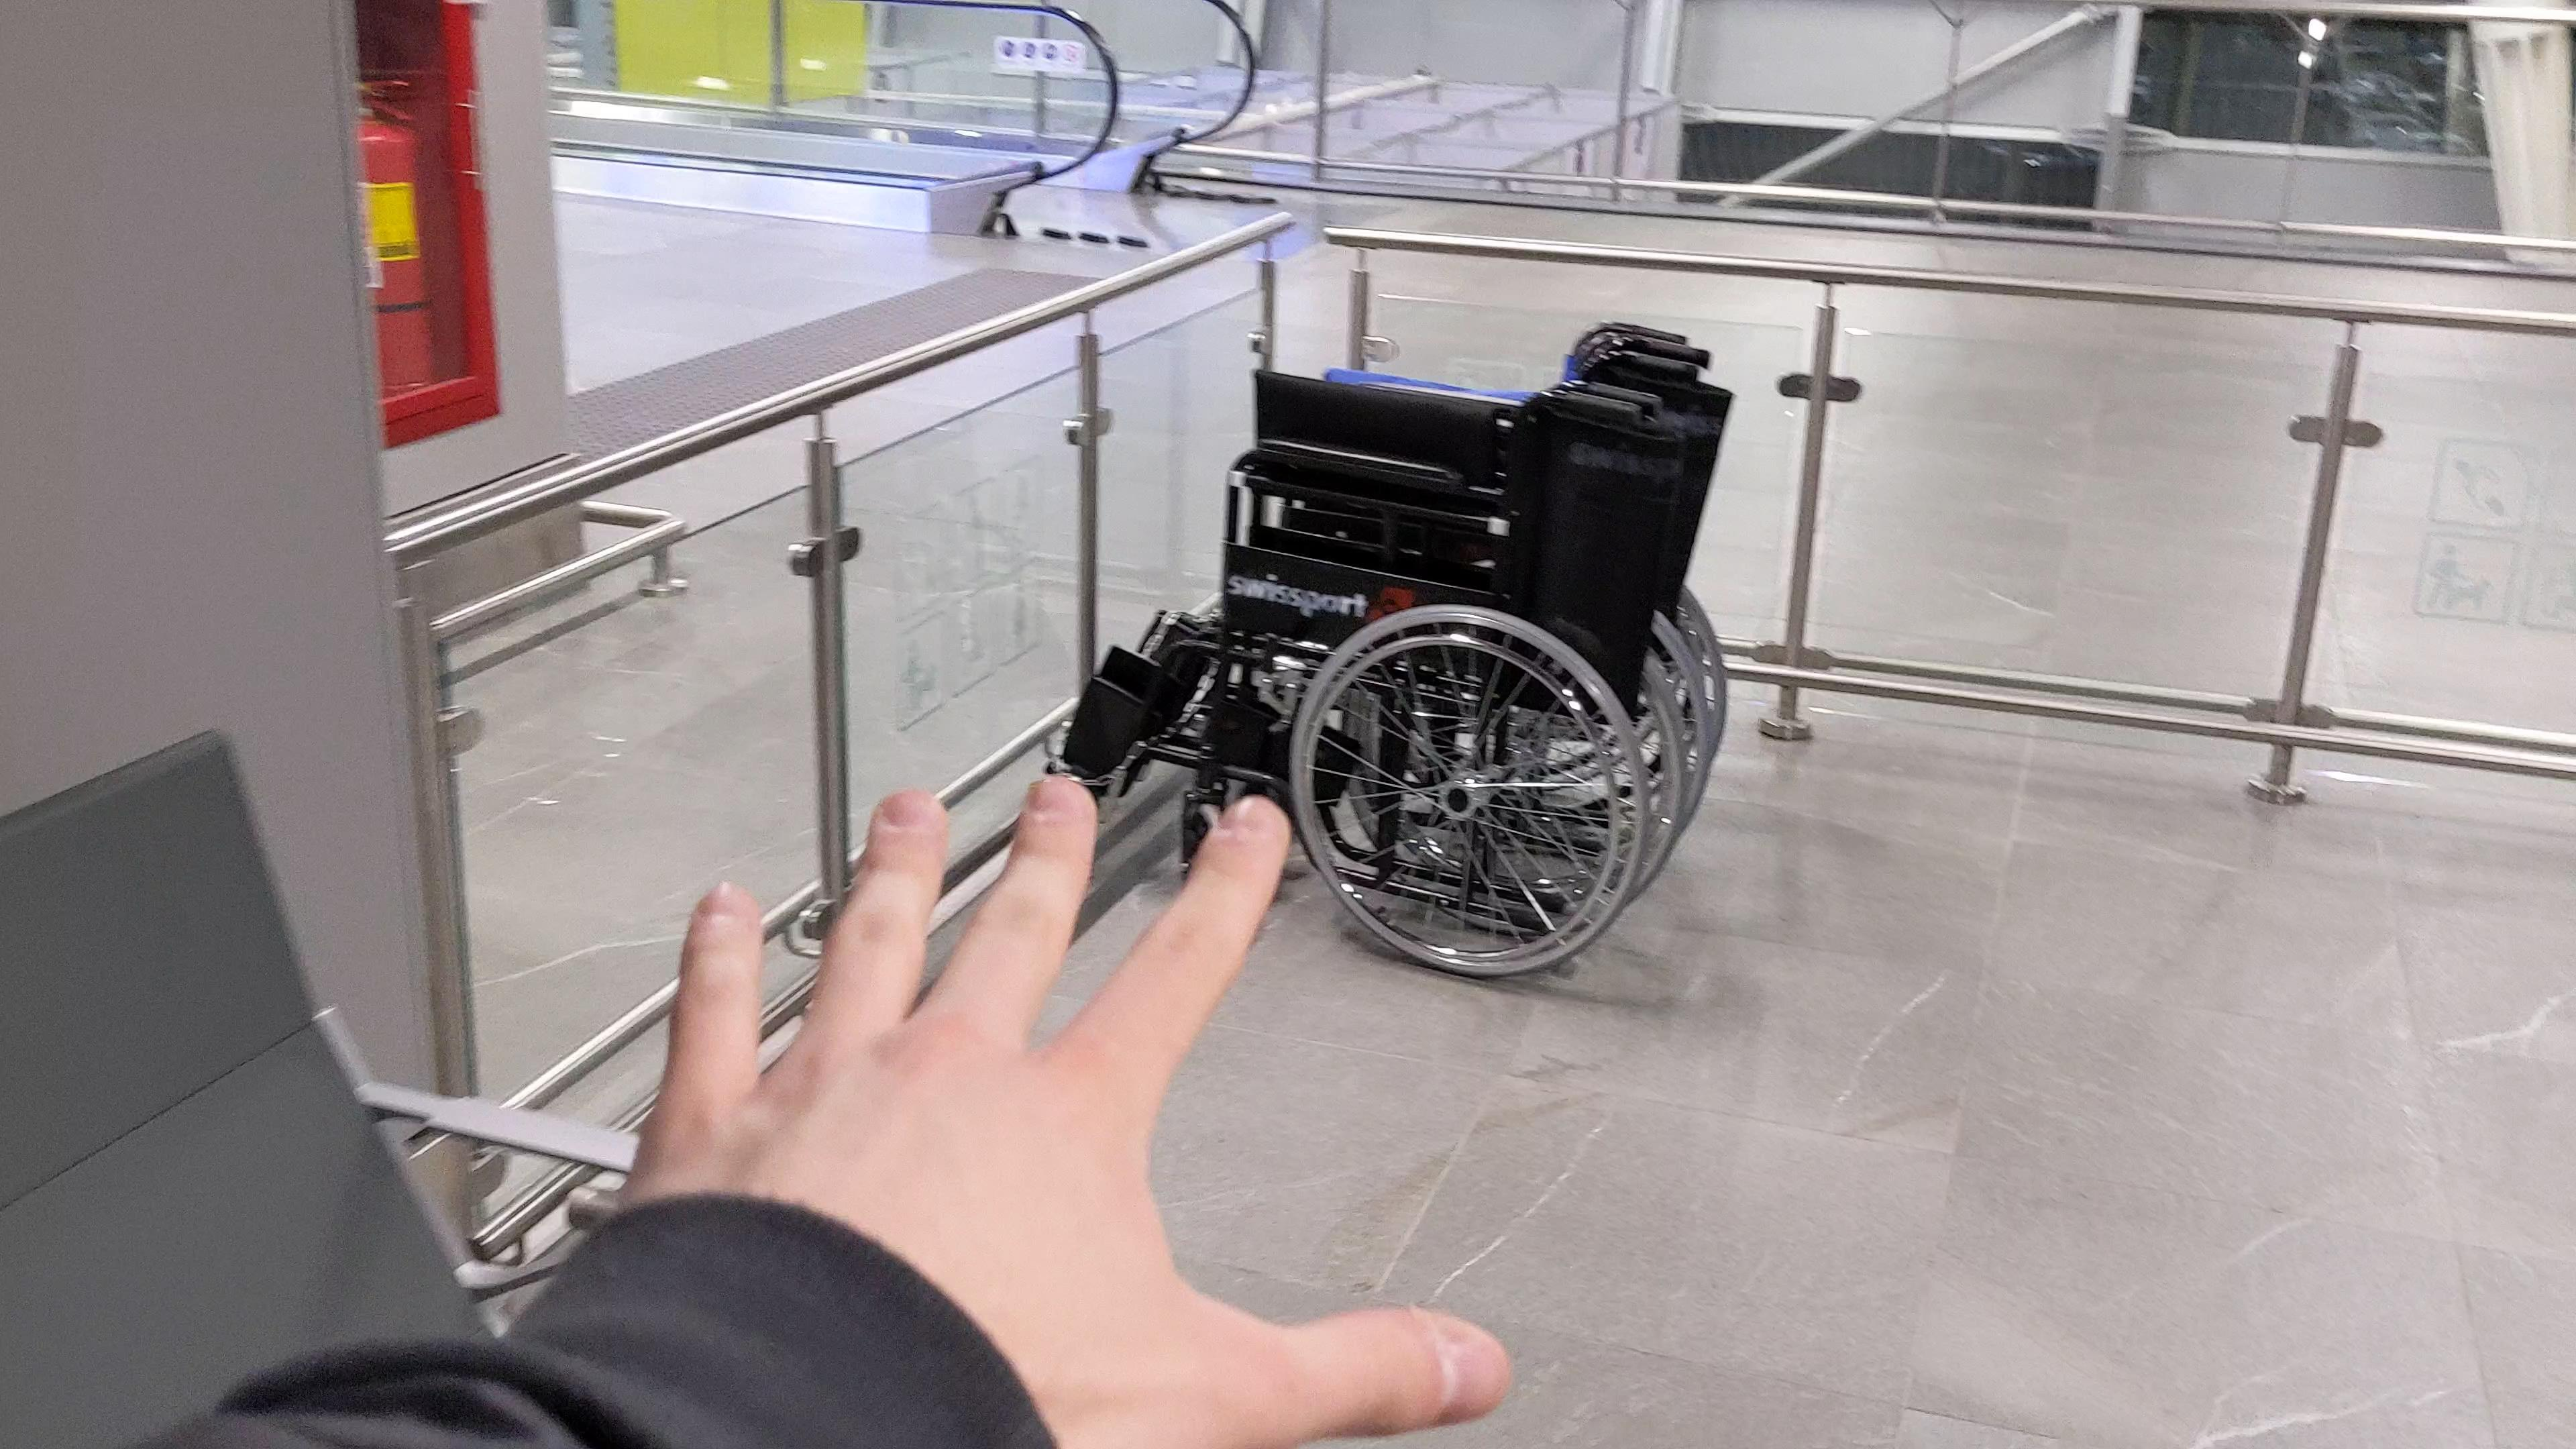fire-extinguisher: (345, 67, 446, 409)
